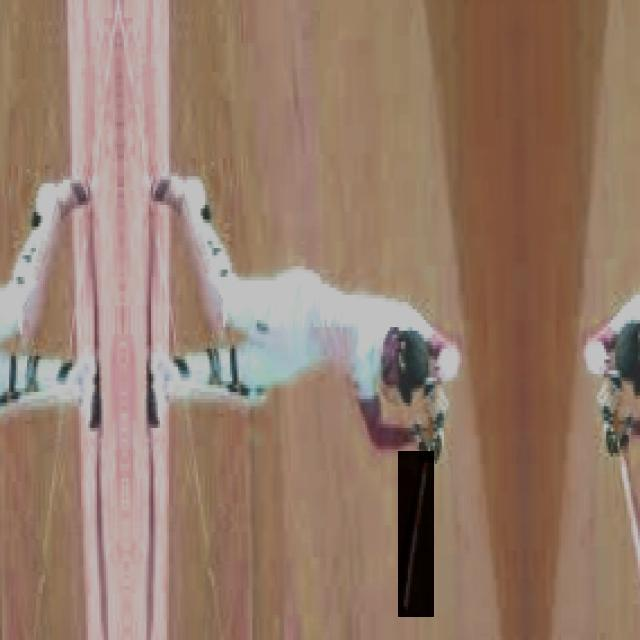bat: (396, 450, 436, 619)
